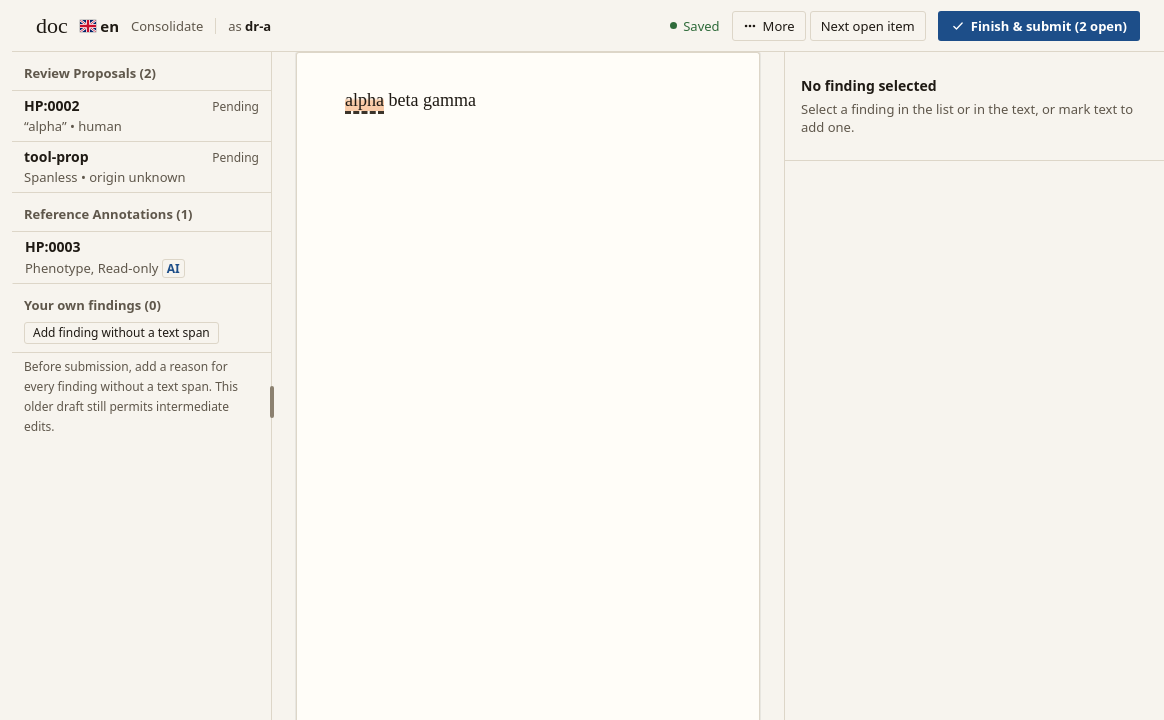
it: review outcome and section layout › does not claim AI origin for a proposal whose snapshot is missing
Click the button "tool-prop Pending Spanless • origin unknown".
click(142, 168)  # box [12,142,271,193]
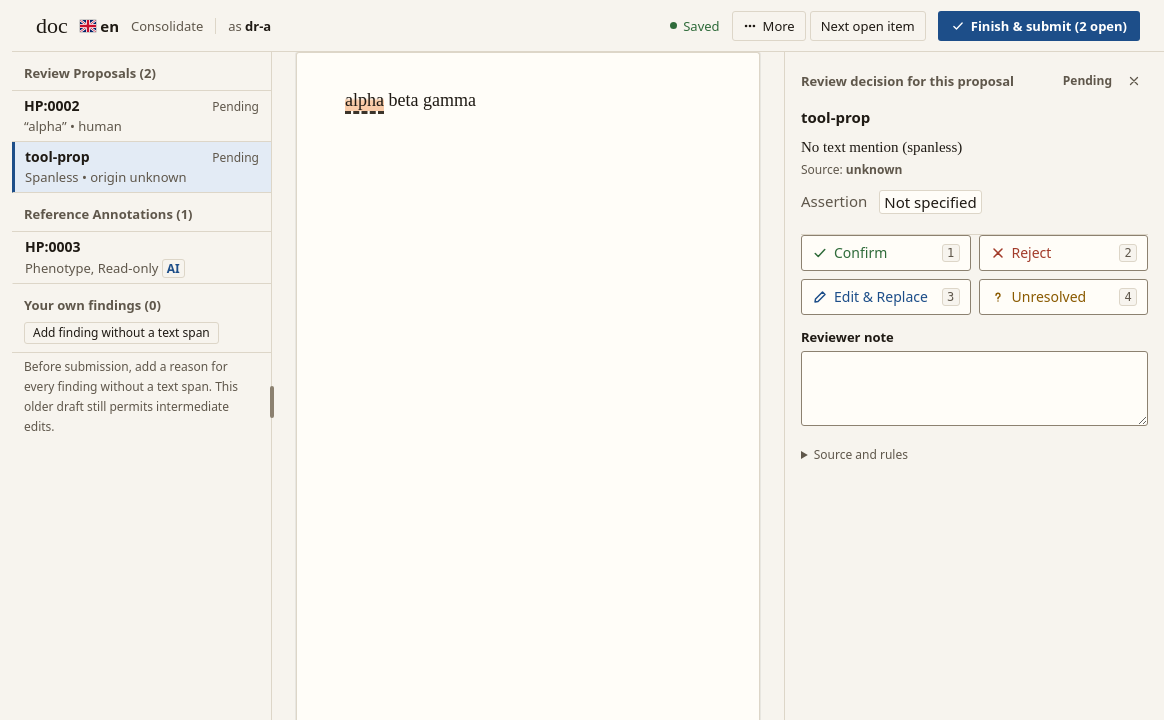
Expected: the element with class "inspector-pane" shows "Source: unknown", [784,52,1163,719]
